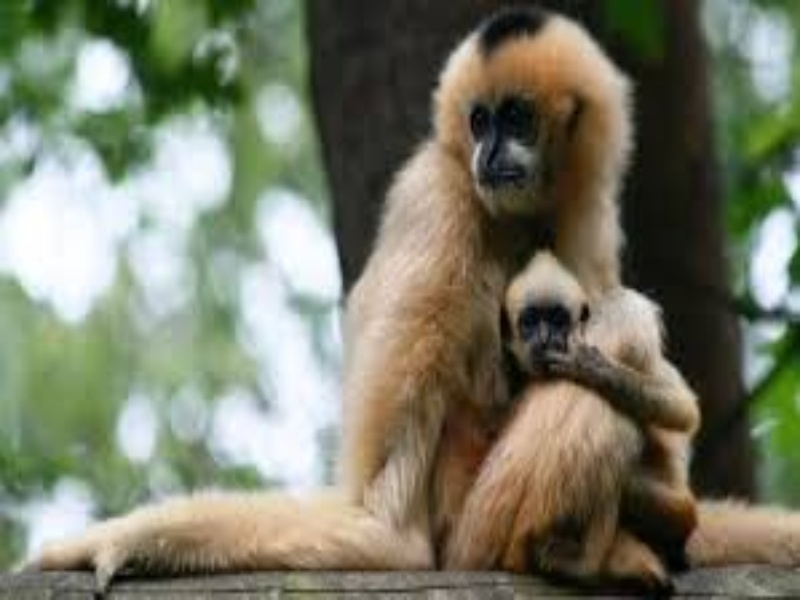monkey: (9, 15, 732, 596), (502, 262, 672, 592)
